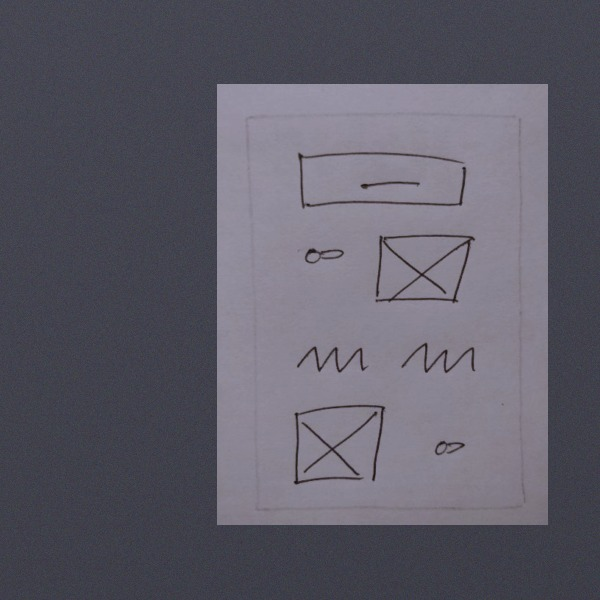button: (290, 144, 476, 214)
image: (283, 397, 387, 489), (366, 230, 482, 307)
switch: (298, 238, 354, 275), (425, 431, 469, 460)
text: (394, 332, 481, 379), (290, 337, 375, 378)
